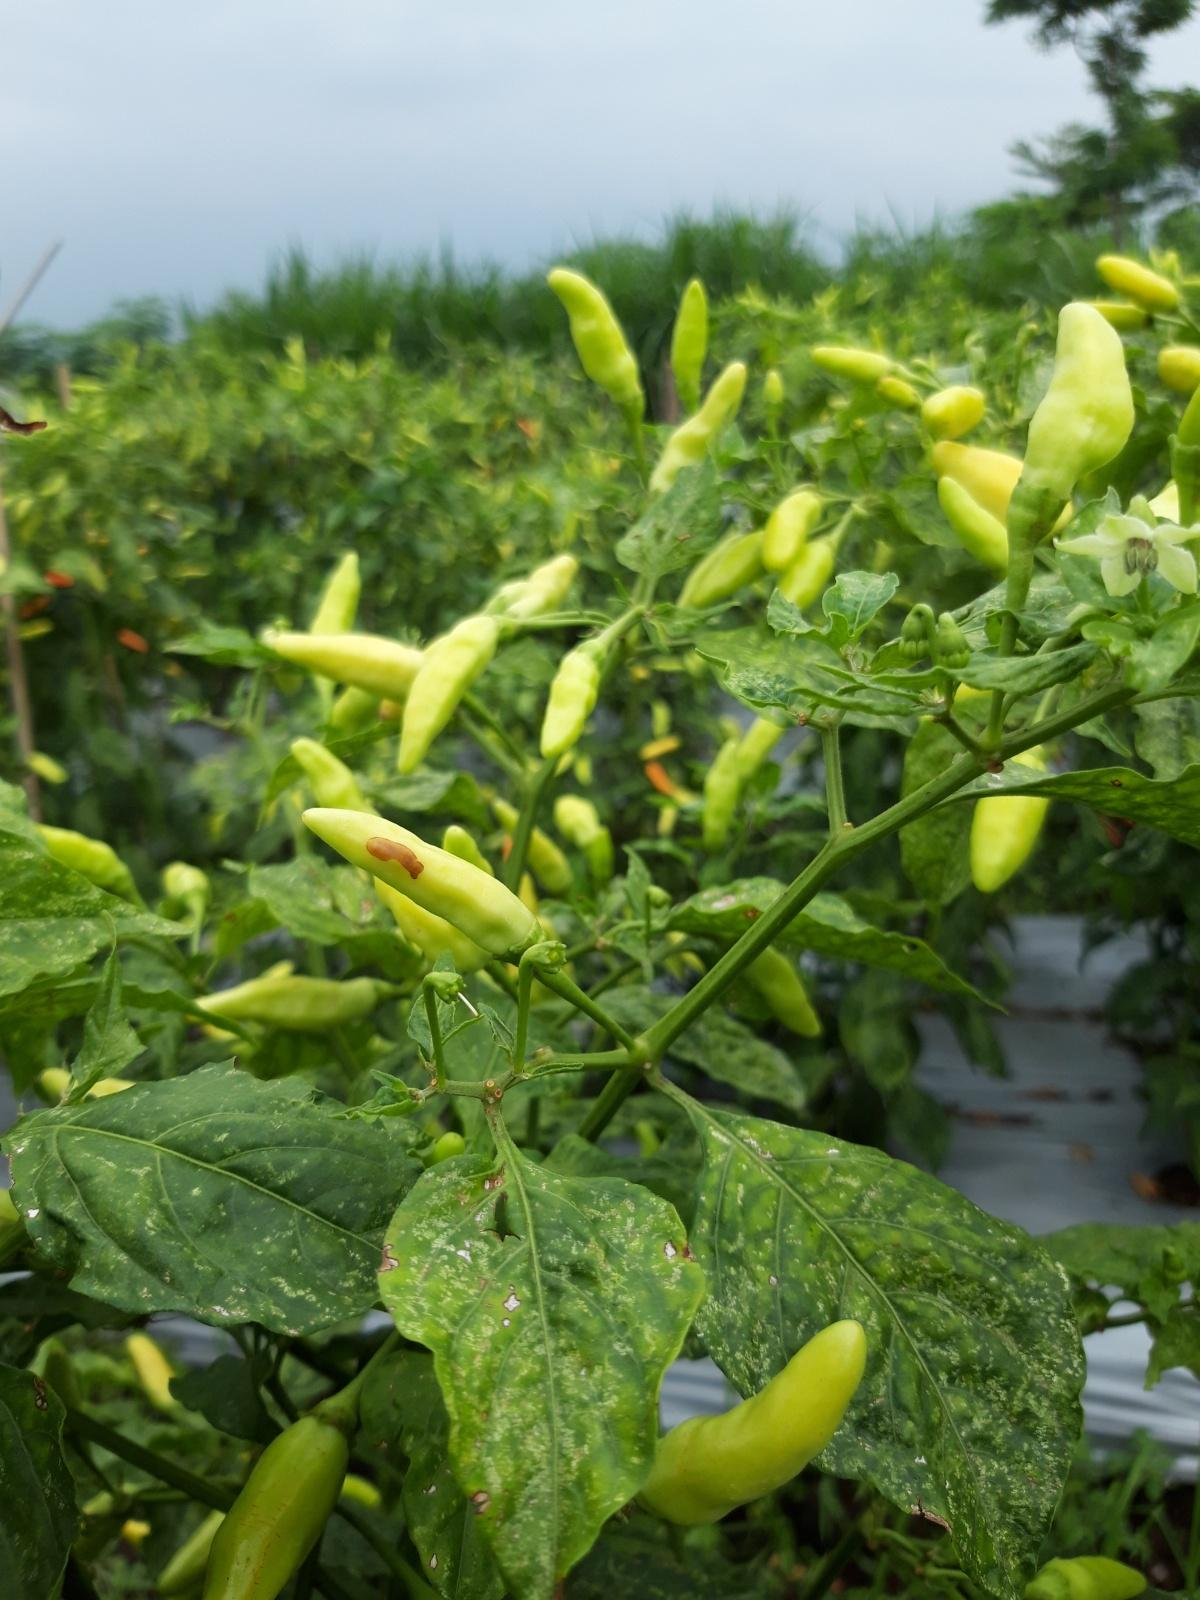cabai_normal: (635, 1319, 868, 1527), (1006, 301, 1136, 534), (397, 614, 508, 774), (547, 270, 643, 407), (272, 629, 424, 703), (180, 975, 391, 1028), (541, 639, 614, 758), (304, 551, 361, 693), (934, 475, 1013, 569), (1095, 257, 1181, 316), (700, 740, 746, 848), (763, 490, 822, 572), (671, 277, 710, 398), (776, 540, 836, 616), (916, 387, 987, 442), (811, 345, 903, 382), (877, 377, 921, 413)
lalat_buah: (301, 805, 547, 971)
